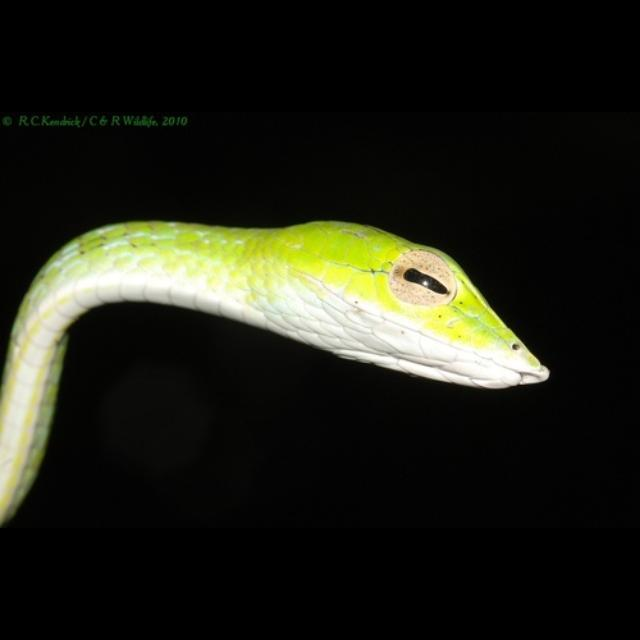snake: (1, 212, 556, 522)
